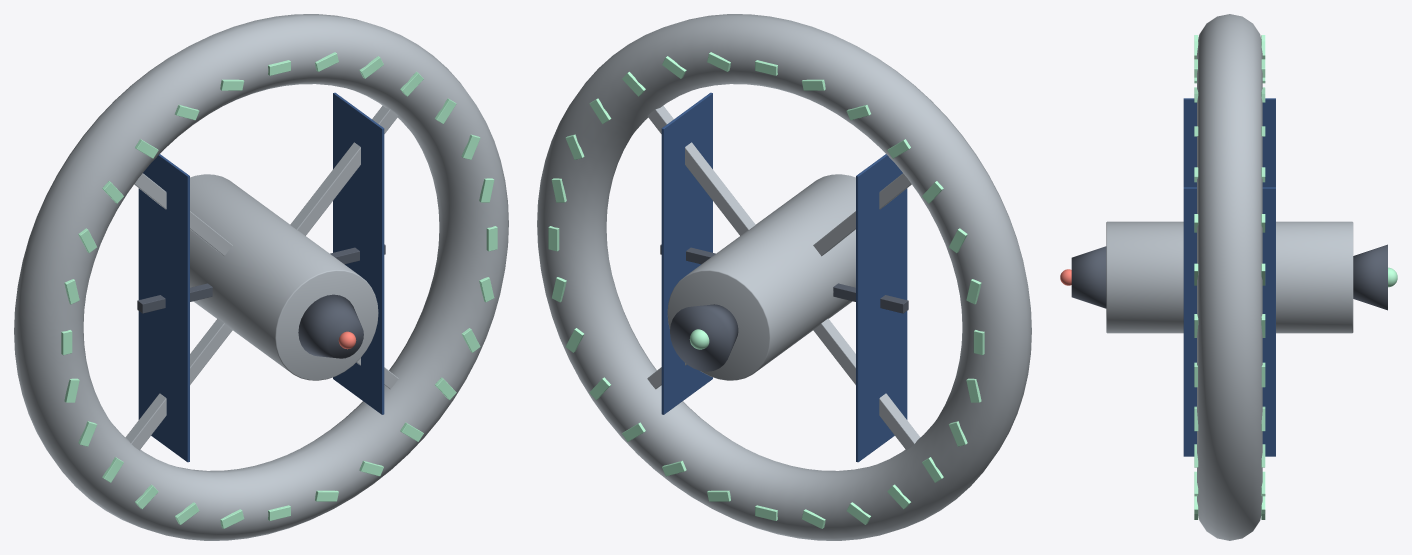
File: station.fbx
3 views of the same model, side by side, from view 1: azimuth 30°, elevation 25°; view 2: azimuth 150°, elevation 25°; view 3: azimuth 270°, elevation 25° (orthographic). The views are drawn at different scales.
Visible parts, largest first — view 1: ring, hub, panel, panel.001, cap, spoke, spoke.002, spoke.001, panelarm; view 2: ring, hub, panel, panel.001, cap.001, spoke, spoke.002, spoke.001, panelarm; view 3: ring, hub, panel.001, panel, cap.001, cap.
Boxes of the visible parts, x1,y1,x2,y2 form: ring: [14, 14, 508, 540]; hub: [190, 174, 378, 380]; panel: [138, 154, 189, 462]; panel.001: [333, 92, 384, 414]; cap: [298, 294, 363, 358]; spoke: [290, 105, 398, 235]; spoke.002: [125, 318, 232, 450]; spoke.001: [134, 173, 232, 256]; panelarm: [137, 283, 212, 313]; ring: [537, 14, 1031, 540]; hub: [667, 174, 855, 380]; panel: [856, 154, 907, 462]; panel.001: [661, 92, 712, 414]; cap.001: [670, 304, 738, 371]; spoke: [647, 105, 755, 235]; spoke.002: [813, 318, 920, 450]; spoke.001: [813, 173, 911, 256]; panelarm: [833, 283, 908, 313]; ring: [1197, 14, 1262, 540]; hub: [1106, 221, 1353, 333]; panel.001: [1183, 187, 1275, 456]; panel: [1183, 98, 1275, 187]; cap.001: [1353, 244, 1387, 310]; cap: [1071, 246, 1106, 308].
Bounding box in the file's own units: 1600 × 1600 × 1025.
